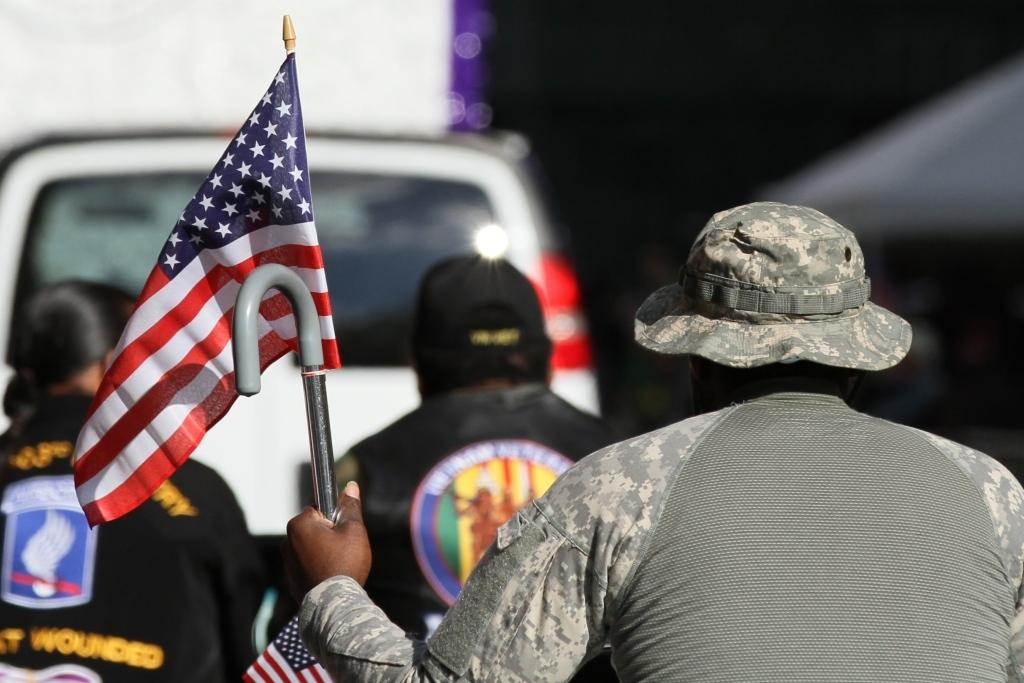Hat: (633, 200, 913, 372), (408, 253, 554, 356)
